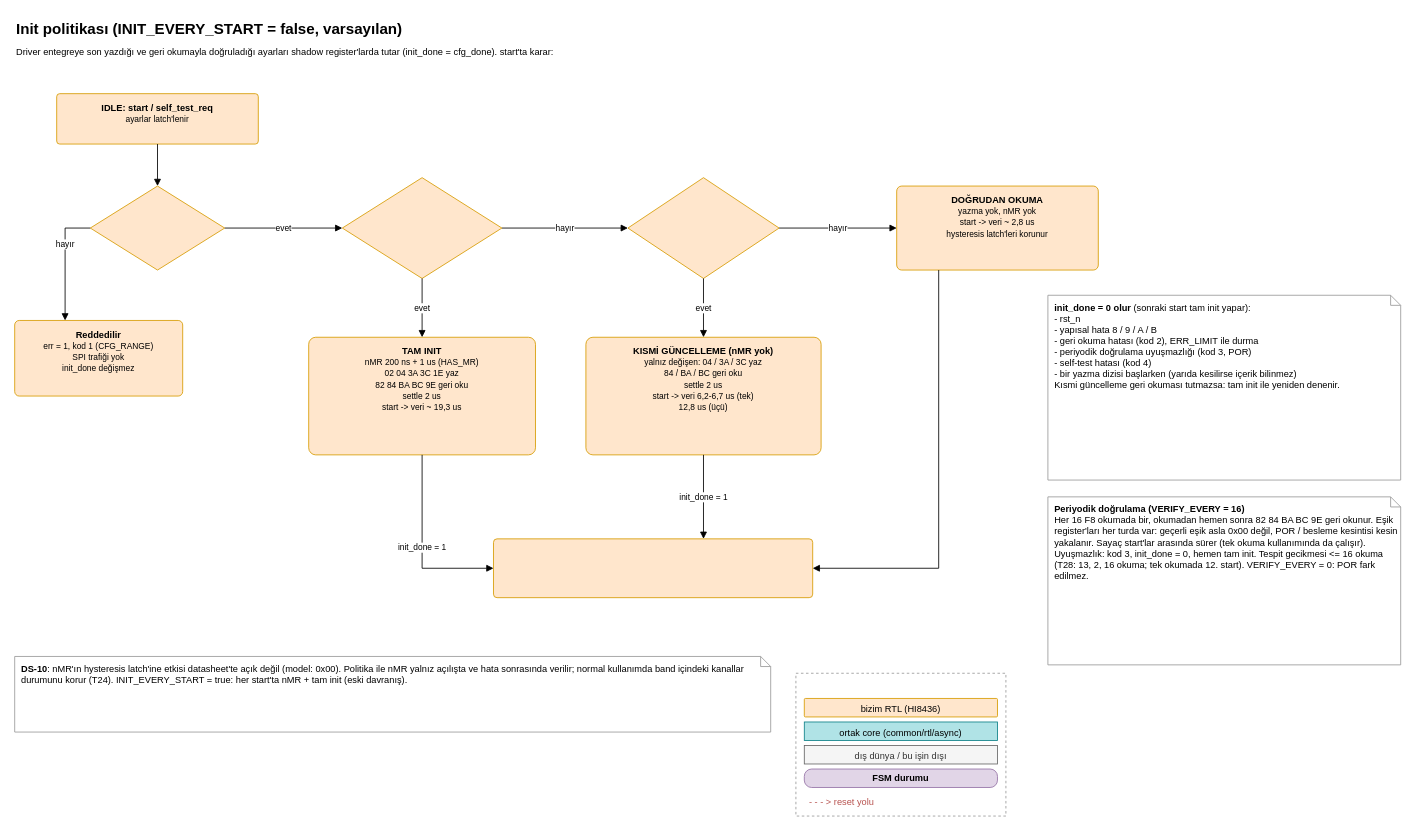
This 1415x831 diagram has some shape labels left out. The box of each missing label's shape, as (x1, y1, x2, y2) in pixels:
ayarlar son yazılandan farklı?: (627, 177, 779, 278)
Açıklama: (795, 672, 1006, 816)
eşik kodları geçerli?: (89, 185, 225, 270)
F8 okuma(lar) / self-test sense, sense_valid, sense_chg, sense_act: (493, 538, 813, 598)
INIT_EVERY_START ya da init_done = 0?: (341, 177, 502, 278)
